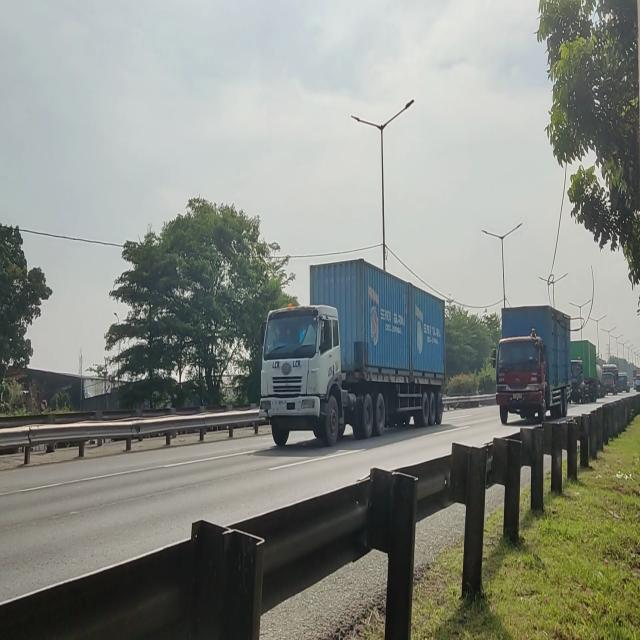Golongan V: (257, 267, 445, 446)
